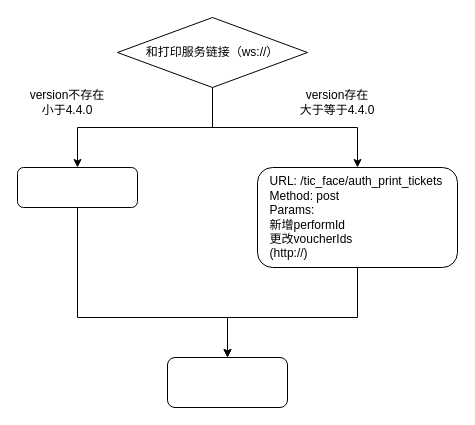
Some shapes in this 475 by 425 pixel diagram are drawn without their labels. Here are the shapes that lost their labels. From the top down, the centre of each, then its label:
At point (77, 187): "老链路不变".
At point (227, 382): "继续打印服务连接（ws://）".
